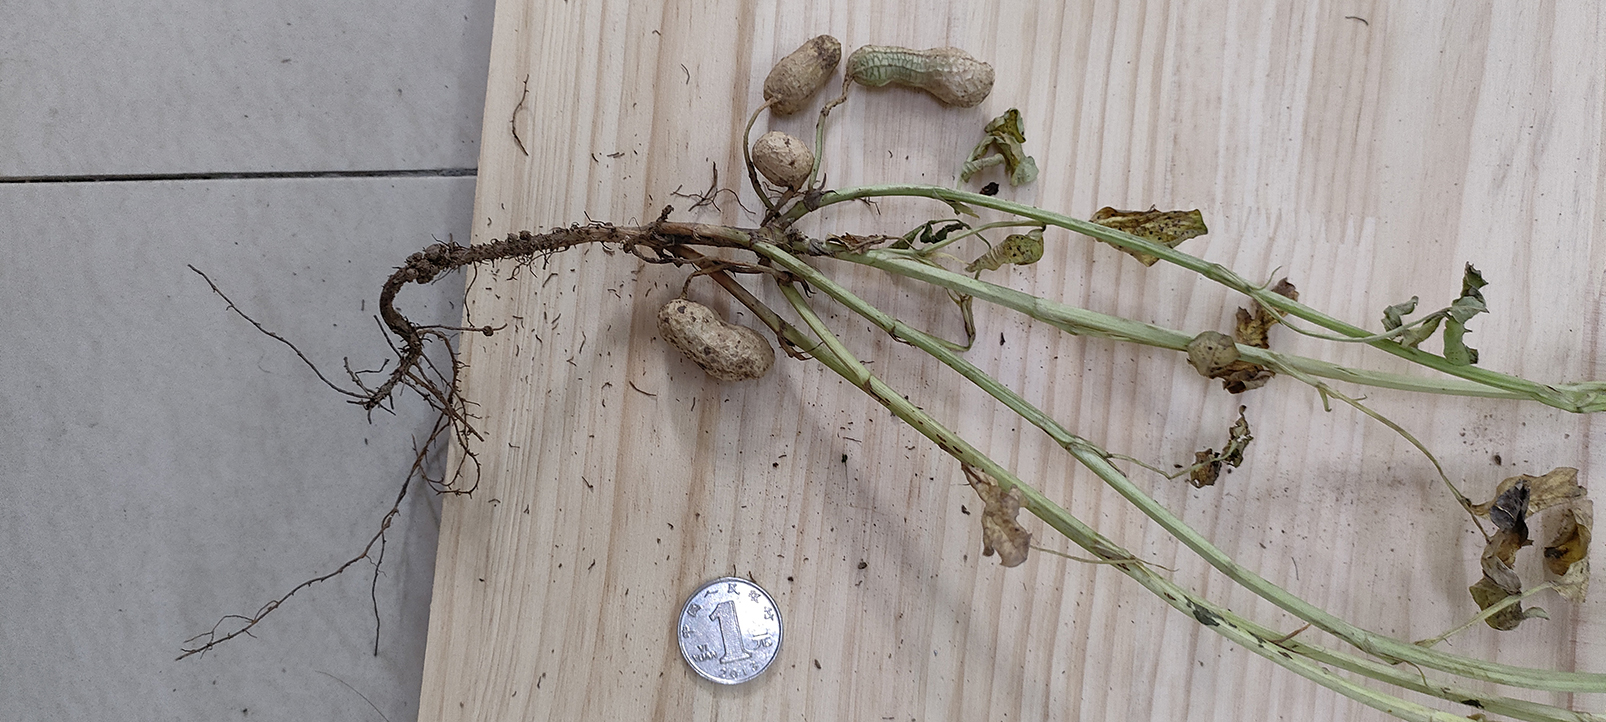h: (658, 296, 775, 383), (848, 45, 994, 108), (762, 34, 842, 115), (752, 131, 815, 186)
